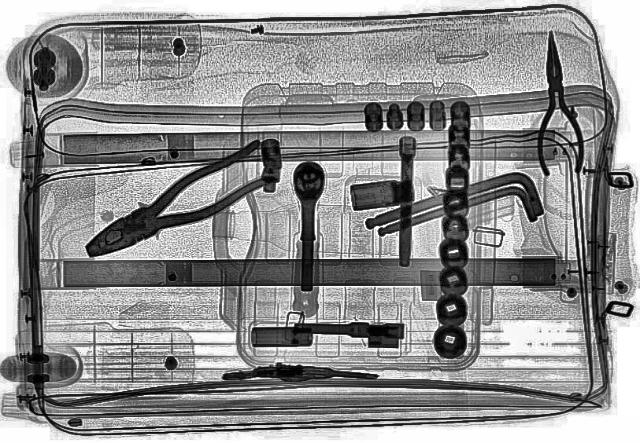Gun: (221, 361, 379, 385)
Pliers: (61, 140, 300, 270), (529, 30, 585, 176)
